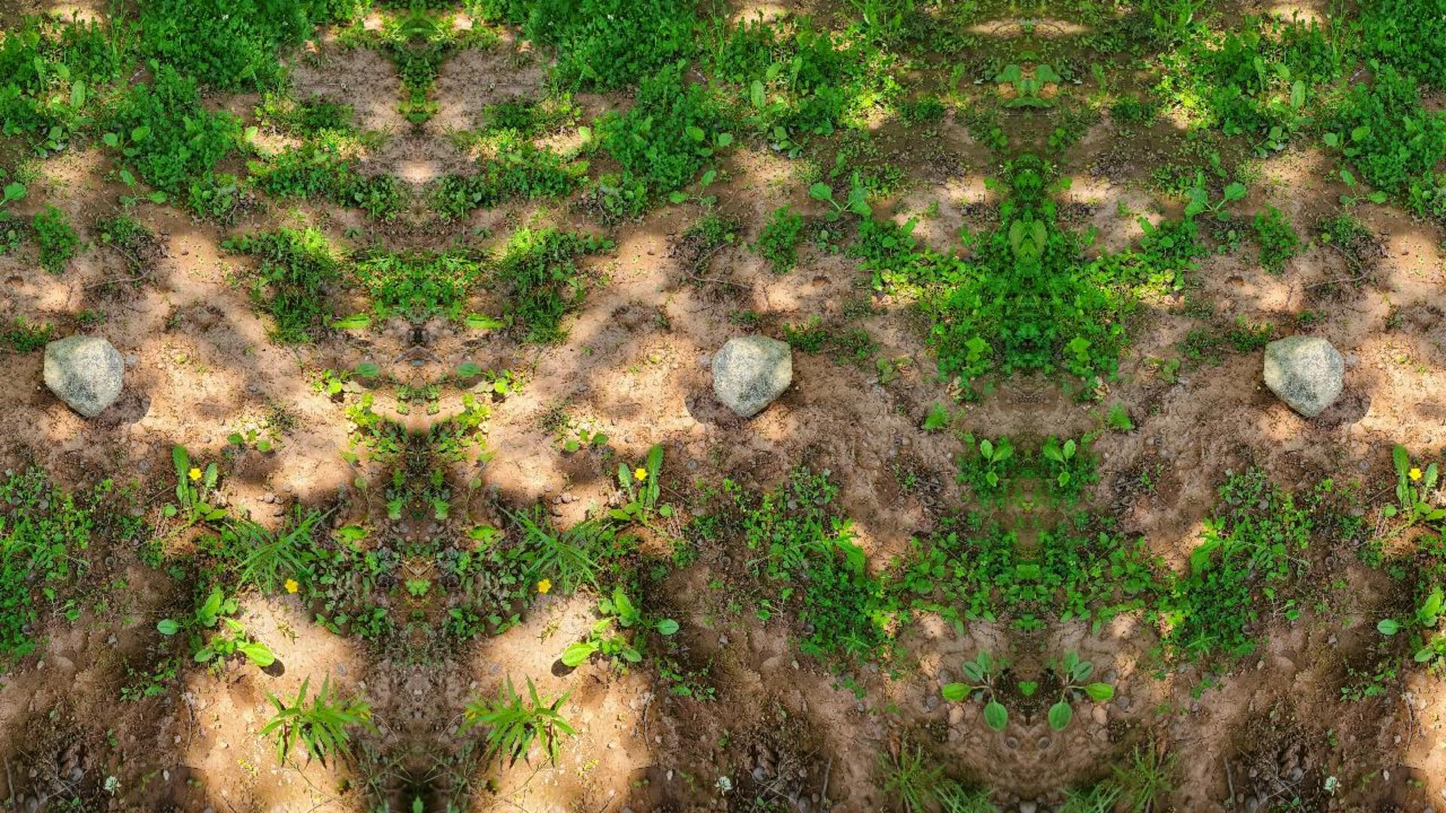rock: (43, 335, 123, 417), (1263, 335, 1343, 417), (712, 335, 791, 418)
